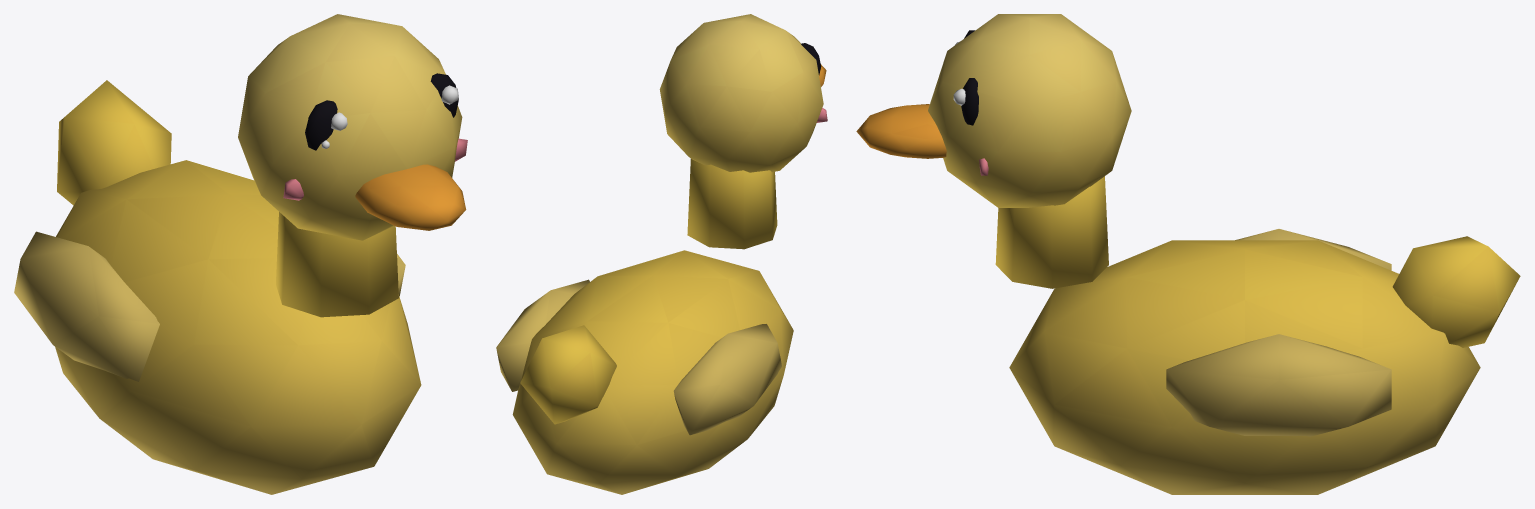
Rendered from duckling.glb.
The picture shows the model from 3 angles, left to right: view 1: azimuth 30°, elevation 25°; view 2: azimuth 150°, elevation 25°; view 3: azimuth 270°, elevation 25°; orthographic projection. The views are drawn at different scales.
Parts seen in each view (by area): view 1: Body, HeadMesh; view 2: Body, HeadMesh; view 3: Body, HeadMesh.
Part boxes in pixels (box(x1,y1,x2,y2)): Body: box(14, 80, 421, 494); HeadMesh: box(238, 14, 467, 317); Body: box(496, 250, 793, 494); HeadMesh: box(659, 14, 827, 249); Body: box(1009, 229, 1520, 494); HeadMesh: box(856, 14, 1131, 288).
Bounding box in the file's own units: 0.2844 × 0.4552 × 0.5863.
